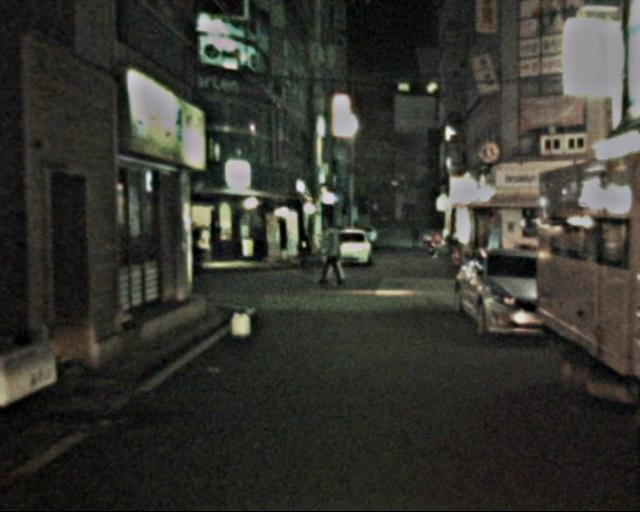person: (316, 221, 347, 291)
